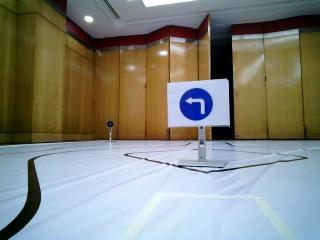left: (173, 86, 230, 122)
